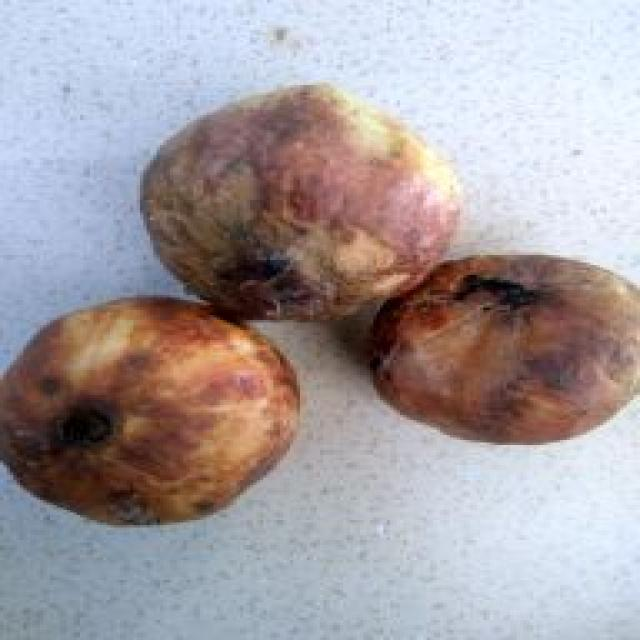Bad_Guava: (142, 84, 460, 319), (2, 298, 298, 524), (377, 256, 638, 443)
